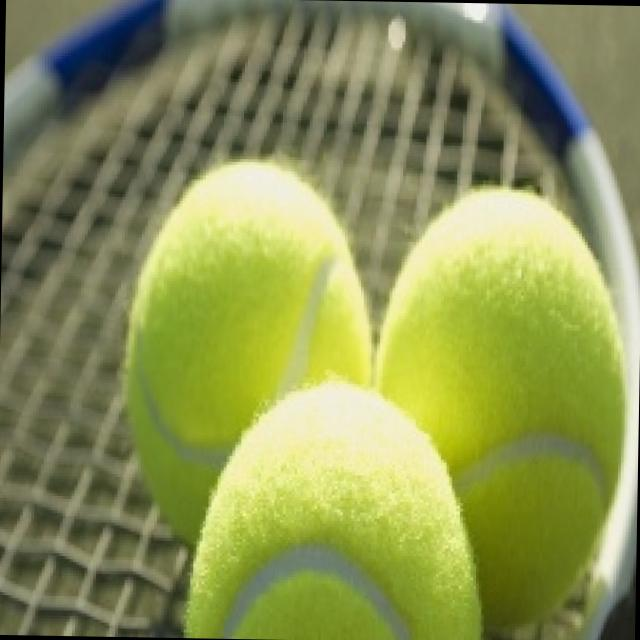Tennis Ball: (373, 188, 625, 626), (122, 158, 373, 552), (183, 383, 481, 640)
